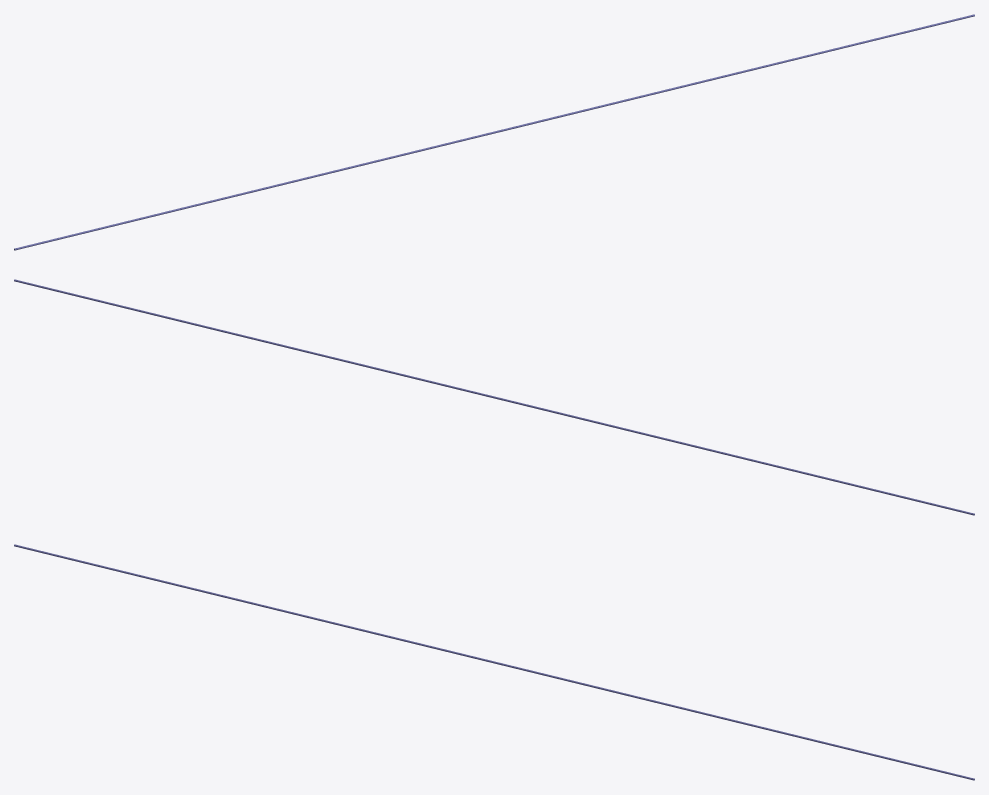
The model's file is Tools_SutureNeedle_01_NoNeedle.fbx.
3 views of the same model, one above another, from view 1: azimuth 30°, elevation 25°; view 2: azimuth 150°, elevation 25°; view 3: azimuth 330°, elevation 25° (orthographic).
Parts seen in each view (by area): view 1: Tools_SutureNeedle_01:Tools_String_01; view 2: Tools_SutureNeedle_01:Tools_String_01; view 3: Tools_SutureNeedle_01:Tools_String_01.
Part boxes in pixels (x1,y1,x2,y2): Tools_SutureNeedle_01:Tools_String_01: (14,14,974,250); Tools_SutureNeedle_01:Tools_String_01: (14,279,974,515); Tools_SutureNeedle_01:Tools_String_01: (14,544,974,780).
Bounding box in the file's own units: 130 × 0.2503 × 0.2503.
